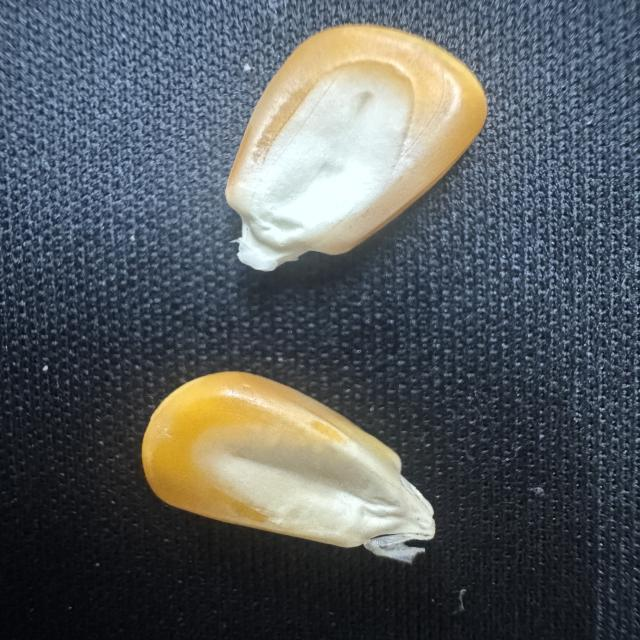Good-Seed: (220, 18, 492, 276), (139, 366, 441, 570)
